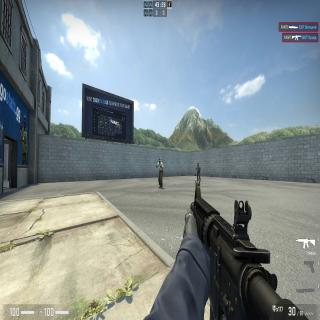CT-Body: (197, 161, 200, 181)
CT-Head: (197, 162, 199, 166)
T-Body: (158, 158, 164, 189)
T-Head: (159, 158, 161, 164)
